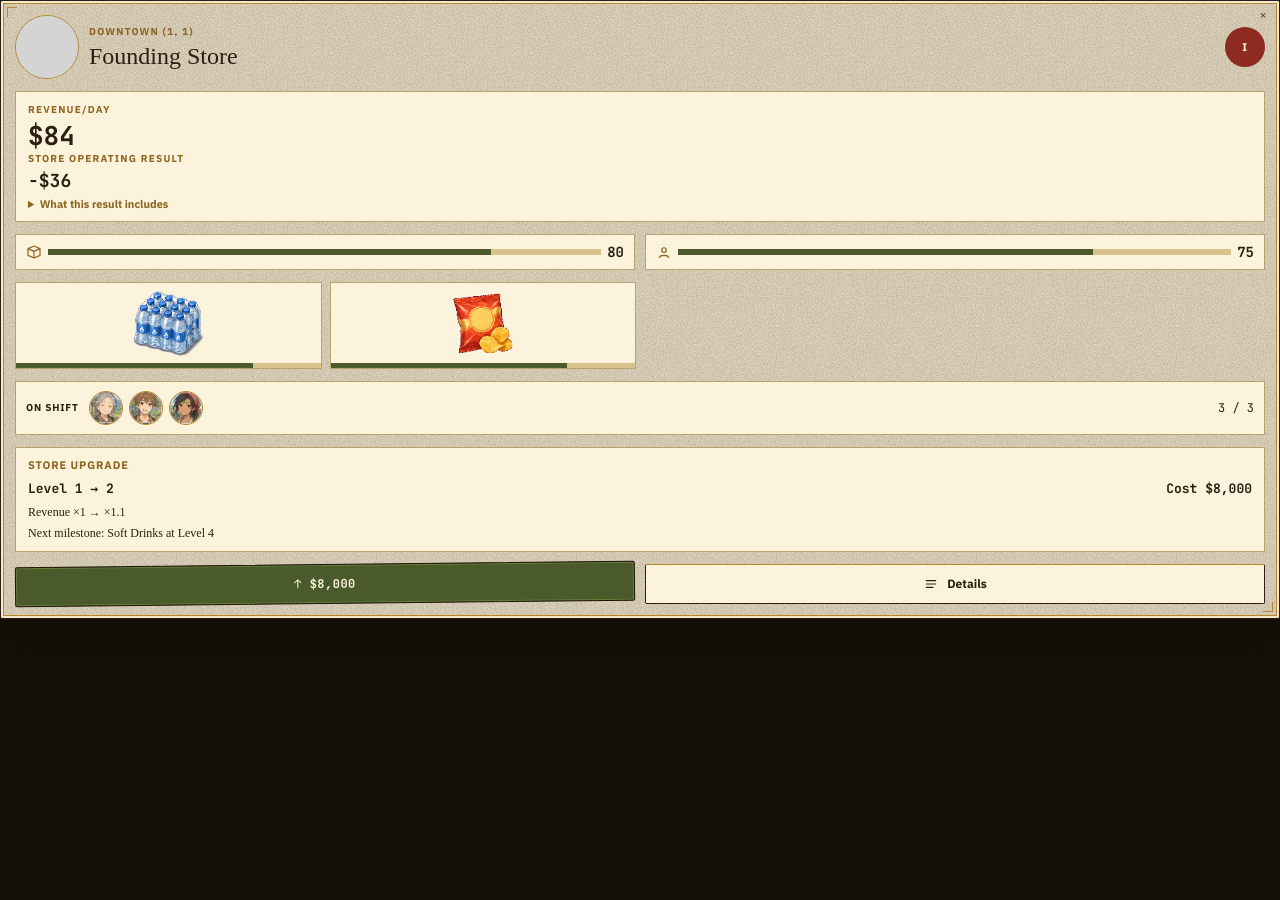
Test: TileInspector store operating result › keeps the scope explanation behind a collapsed disclosure and expands it on demand
Expected: the text "External imports and shared payroll" is not shown
Click the heading "What this result includes": (104, 204) [40,197,168,211]
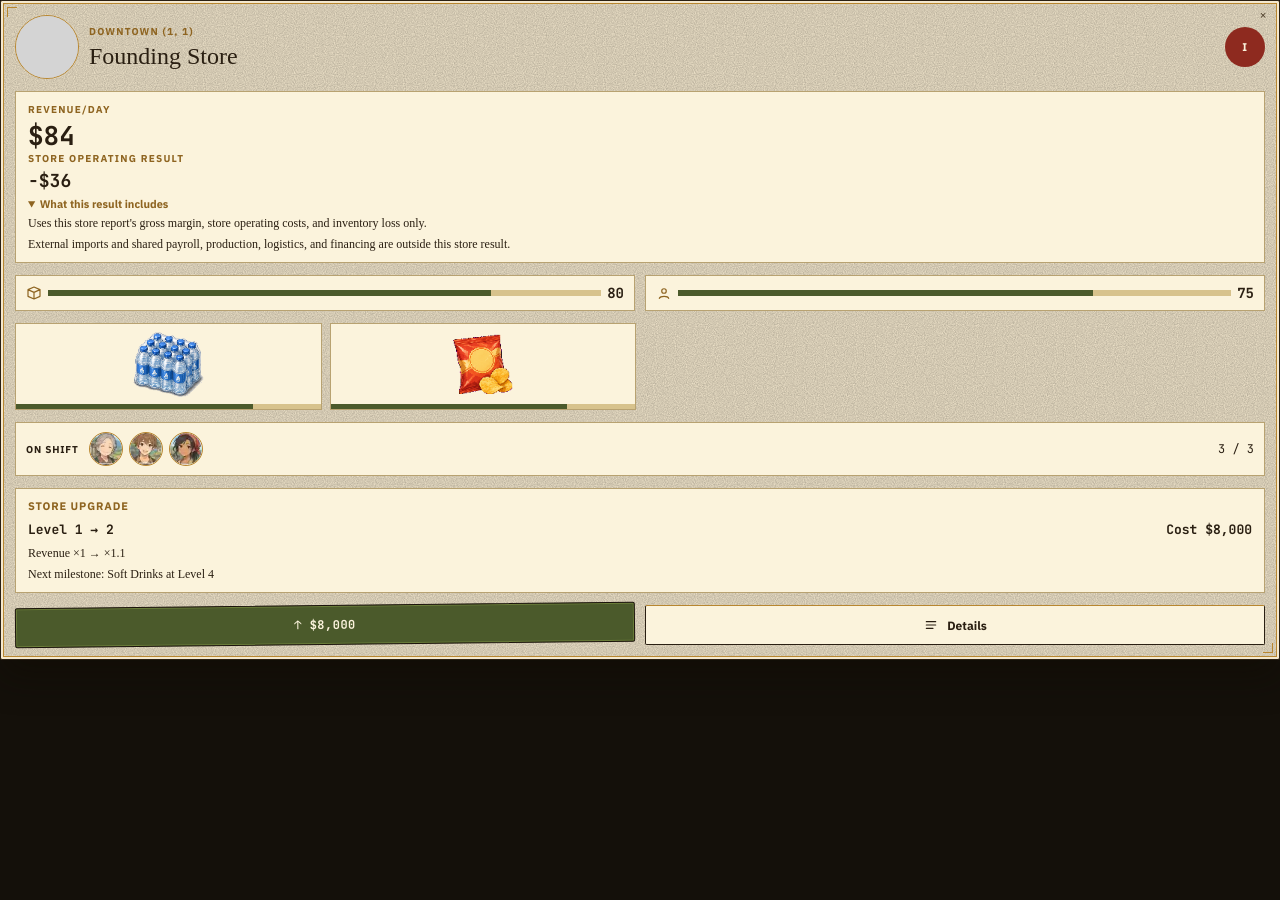
Expected: the text "External imports and shared payroll" is shown, [28,237,510,251]
Expected: the text "gross margin, store operating costs, and inventory loss only" is shown, [28,216,427,230]
